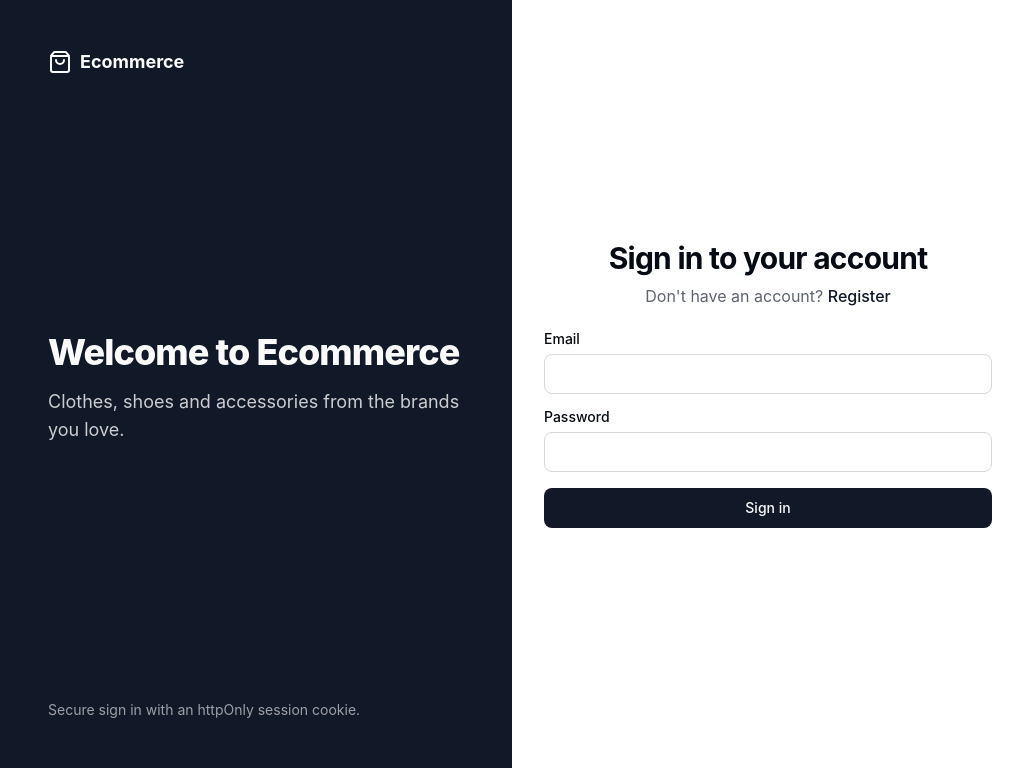
auth and guards › signs an admin in and opens the admin dashboard
The image size is (1024, 768).
Type "admin@example.com" into the field labelled "Email". click: (768, 374)
box: [544, 354, 992, 394]
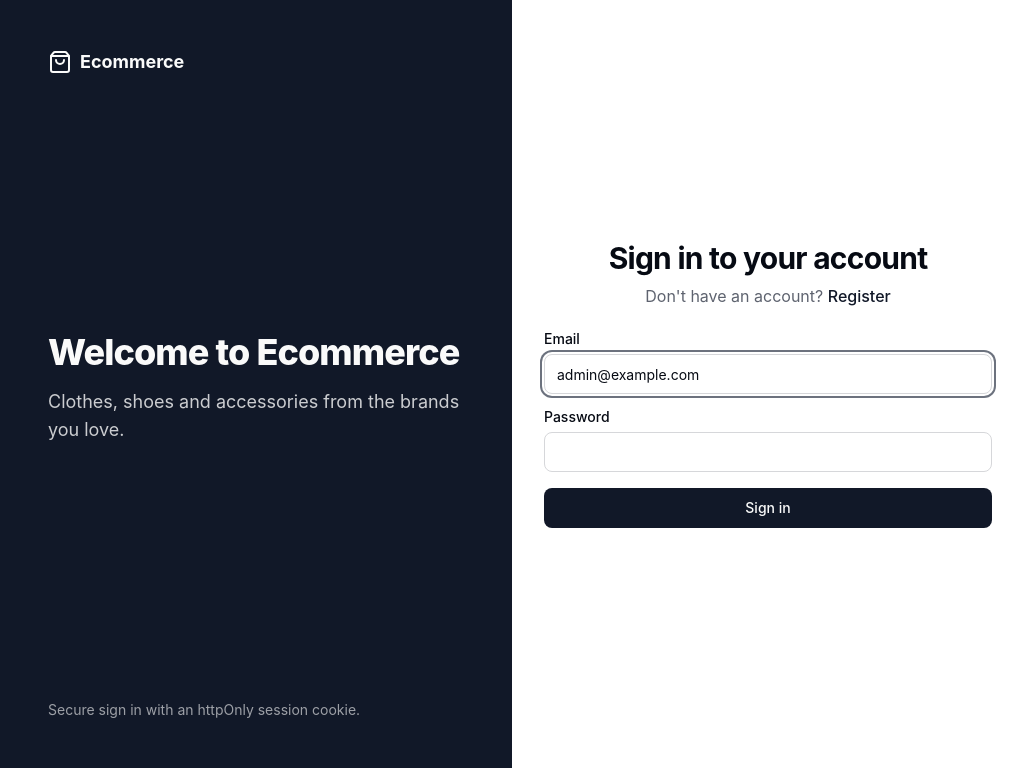
Type "Admin12345" into the password field labelled "Password". click: (768, 452)
box: [544, 432, 992, 472]
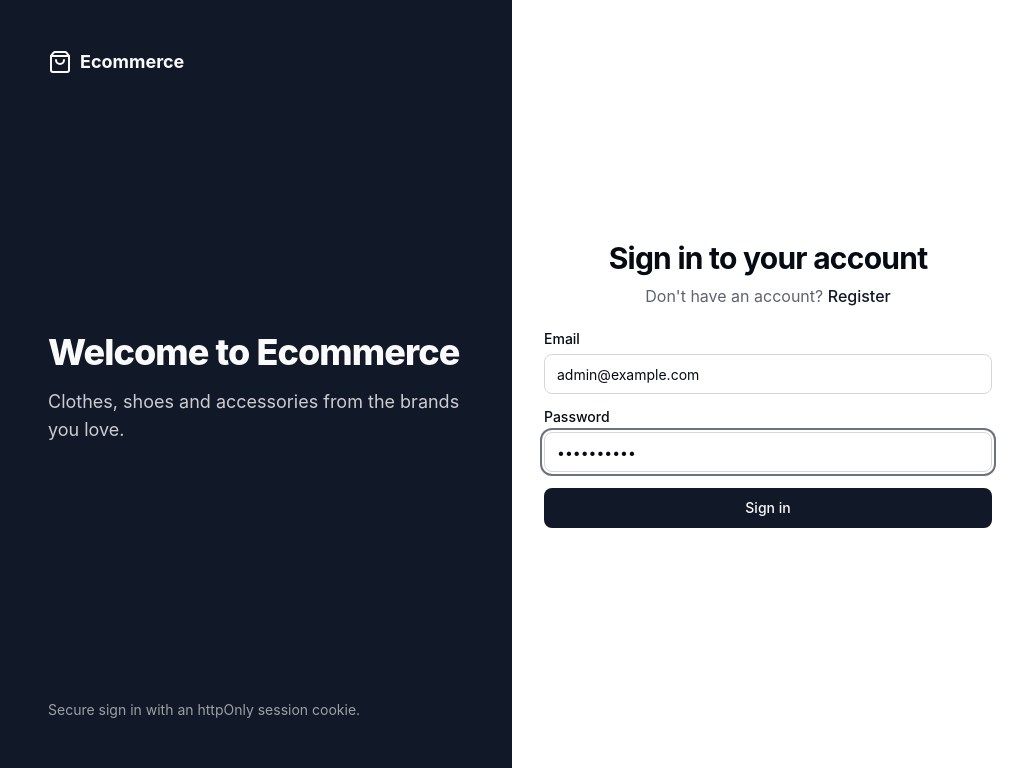
Click the button "Sign in". click: (768, 508)
box: [544, 488, 992, 528]
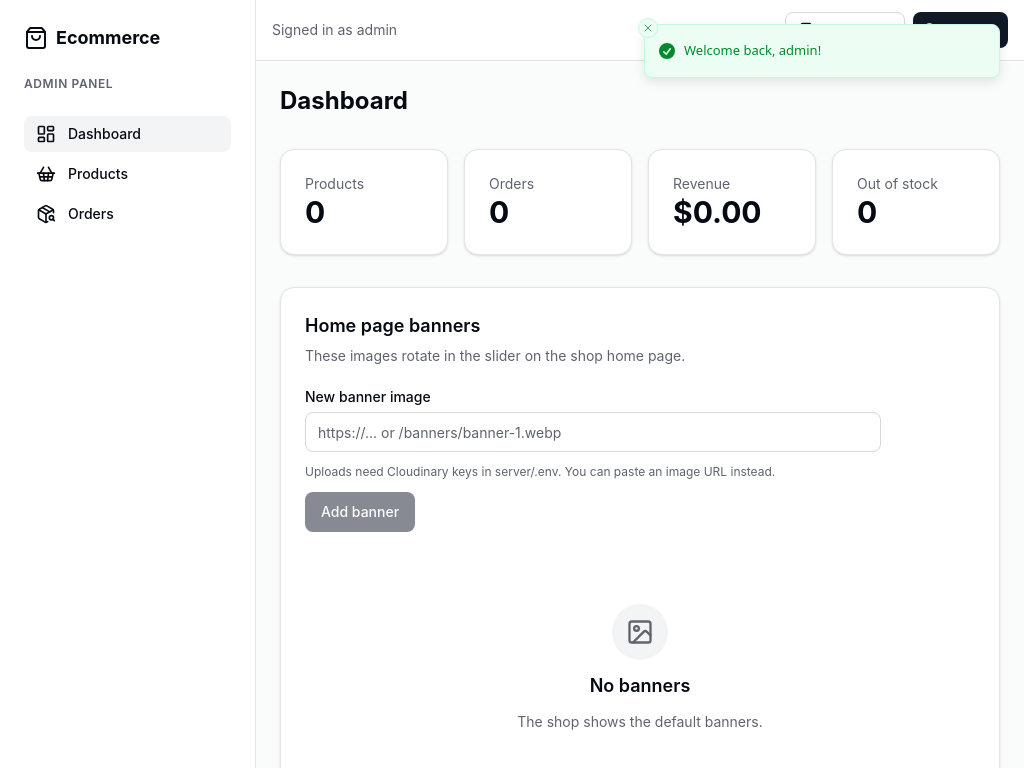
Expected: the heading "Dashboard" is shown, [280, 86, 408, 115]
